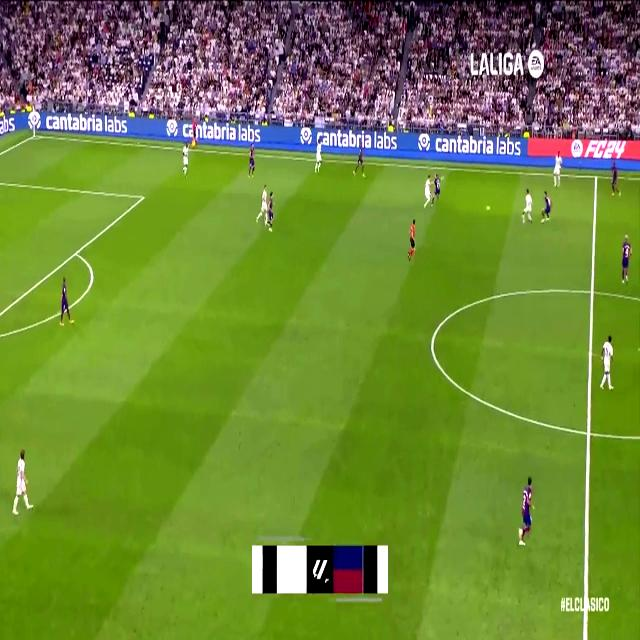bigarea_top_inner: (139, 189, 146, 205)
corner: (29, 130, 38, 141)
halfcircle_bottom: (583, 417, 595, 448)
halfcircle_top: (586, 278, 598, 304)
midline_top_intersection: (592, 170, 600, 184)
top_arc_area_intersection: (72, 244, 80, 260)
